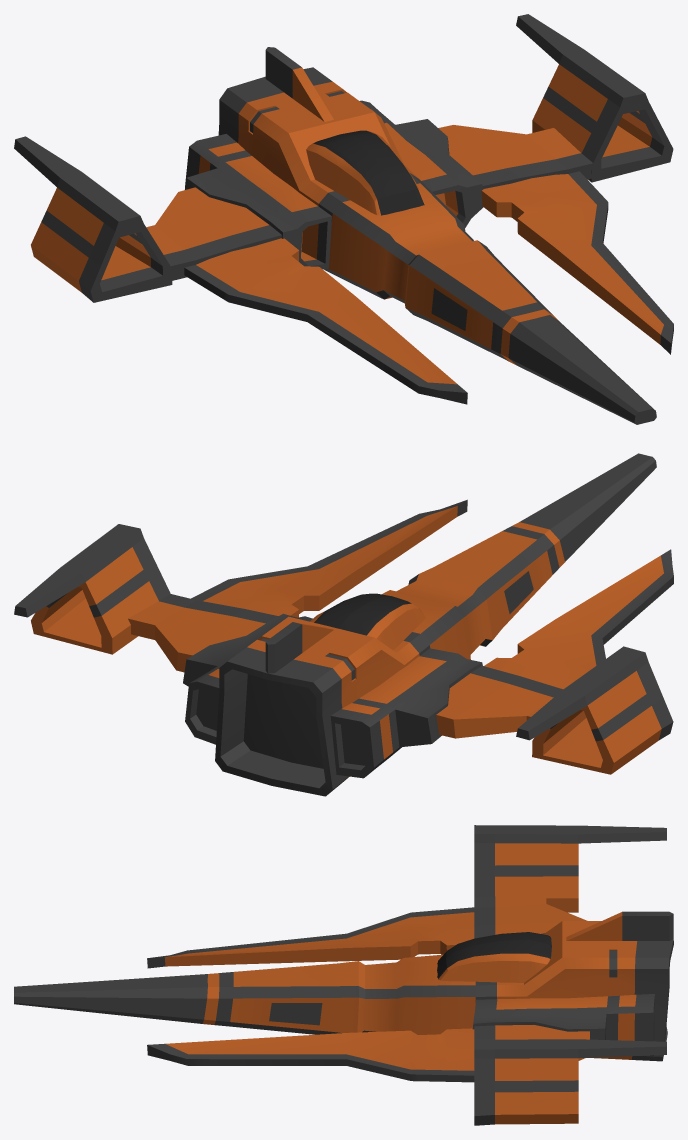
File: concord_fighter_a.repacked.glb
3 renders of one model, top to bottom at view 1: azimuth 30°, elevation 25°; view 2: azimuth 150°, elevation 25°; view 3: azimuth 270°, elevation 25°, orthographic. The views are drawn at different scales.
Visible parts, largest first — view 1: Spaceship_RaeTheRedPanda; view 2: Spaceship_RaeTheRedPanda; view 3: Spaceship_RaeTheRedPanda.
Part boxes in pixels (x1,y1,x2,y2): Spaceship_RaeTheRedPanda: (14, 14, 673, 424); Spaceship_RaeTheRedPanda: (14, 453, 673, 796); Spaceship_RaeTheRedPanda: (14, 825, 673, 1125).
Size of the model in its own units: 9.95 by 2.35 by 11.17.
1 material, 1 textured.
